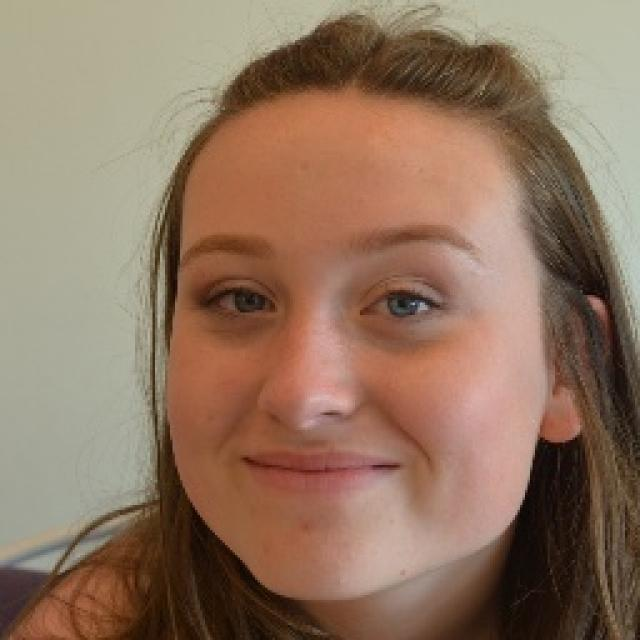earlobe: (540, 389, 580, 445)
eye: (360, 286, 442, 321), (203, 283, 277, 317)
nose: (254, 400, 362, 470)
wholeear: (540, 292, 613, 444)
